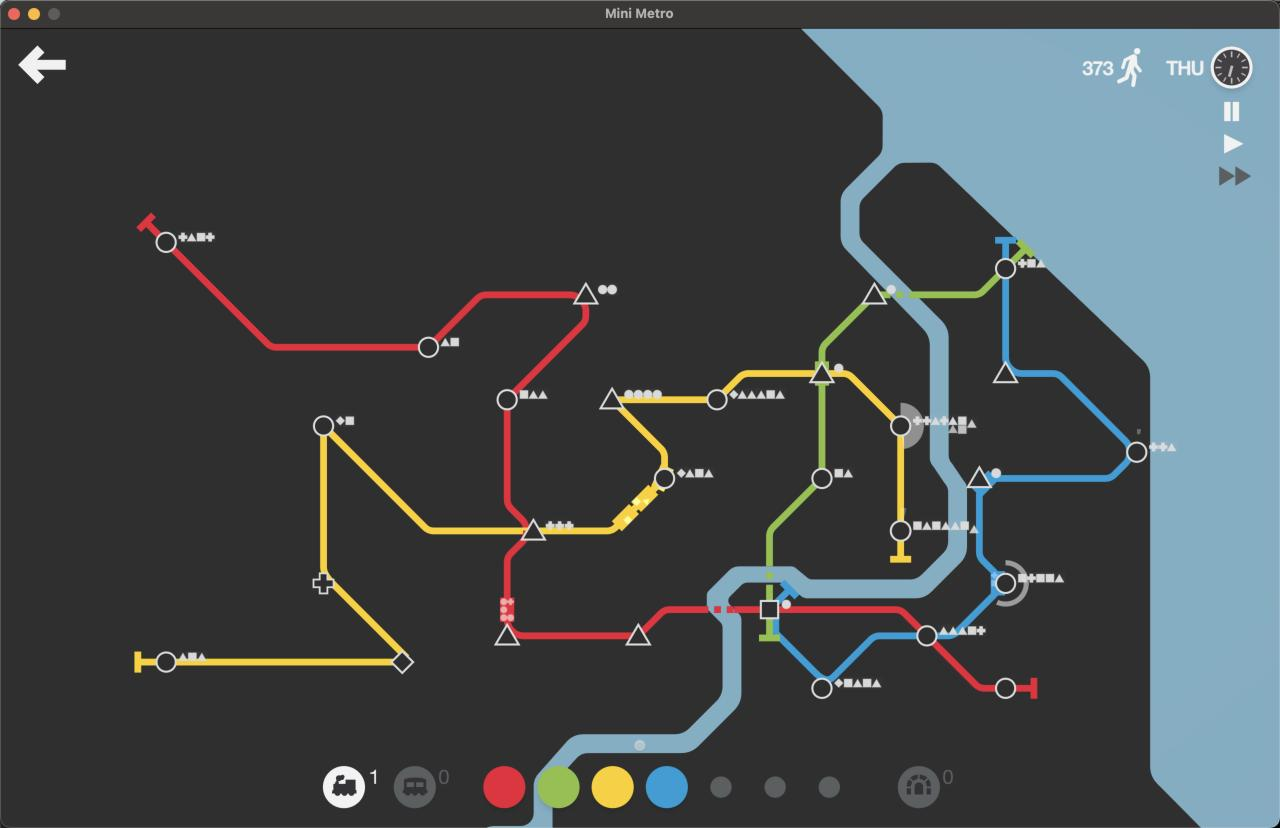CIRCLE: (417, 336, 440, 359), (994, 572, 1017, 595), (496, 389, 519, 411), (312, 415, 335, 437), (653, 467, 675, 490), (1126, 441, 1148, 464), (916, 624, 938, 647), (155, 651, 177, 674), (155, 231, 177, 253), (810, 467, 832, 489), (995, 258, 1017, 280), (890, 520, 912, 542), (811, 677, 833, 699), (706, 389, 727, 411), (890, 415, 911, 437), (995, 677, 1016, 699)
CROSS: (311, 572, 334, 595)
GEM: (391, 650, 415, 675)
SQUARE: (759, 600, 779, 619)
TRIANGLE: (966, 464, 996, 490), (860, 282, 888, 306), (809, 360, 834, 385), (521, 518, 547, 542), (625, 622, 651, 646), (572, 282, 599, 305), (494, 623, 521, 646), (992, 362, 1019, 384), (599, 387, 623, 410)
